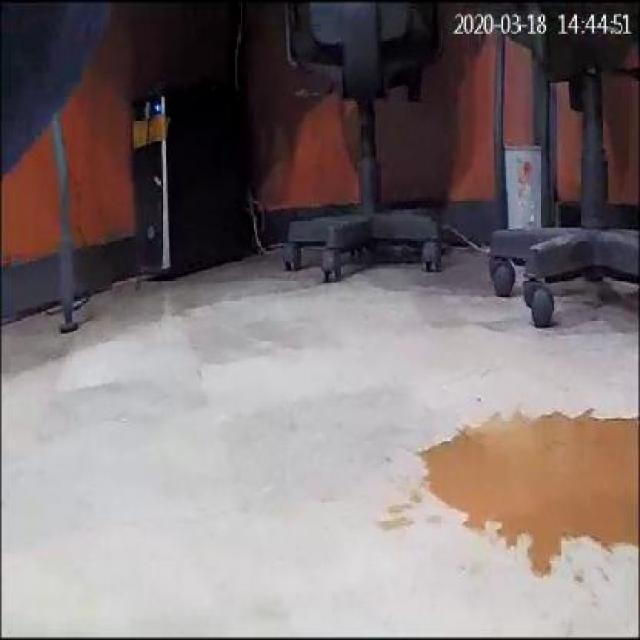spill: (417, 395, 637, 580)
